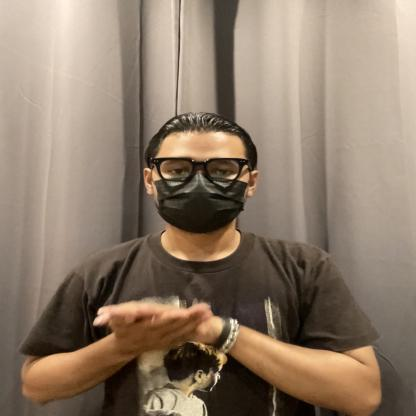Love: (70, 267, 324, 375)
